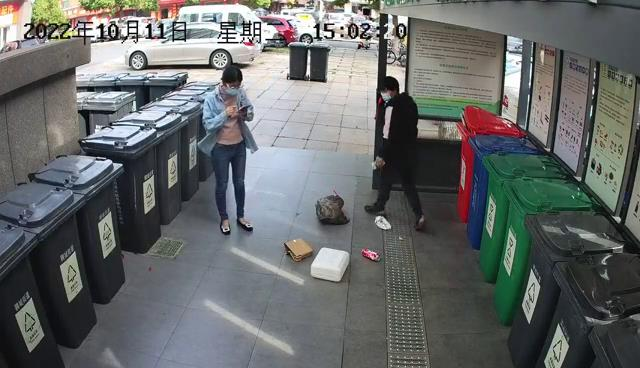lvzhipin: (375, 214, 392, 231), (361, 247, 380, 262)
paomozhipin: (310, 245, 350, 283)
person: (364, 76, 425, 231)
suliaozhipin: (315, 189, 350, 226)
worker: (197, 66, 259, 234)
zhizhipin: (284, 237, 313, 263)
